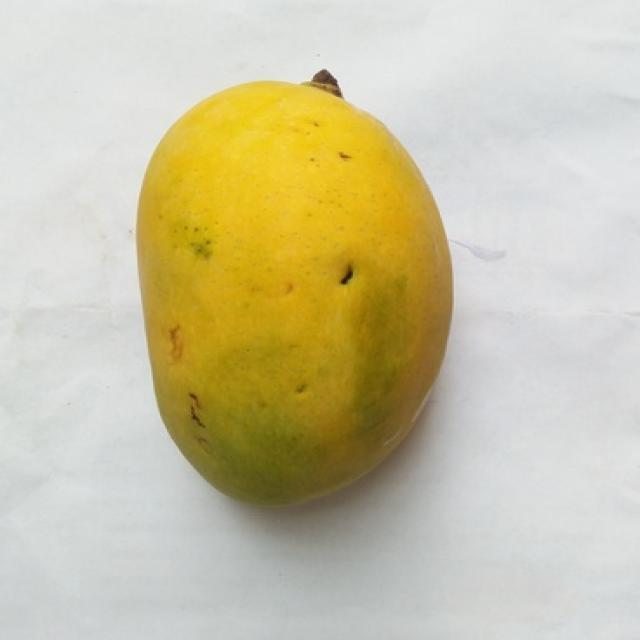Mango: (137, 71, 450, 505)
